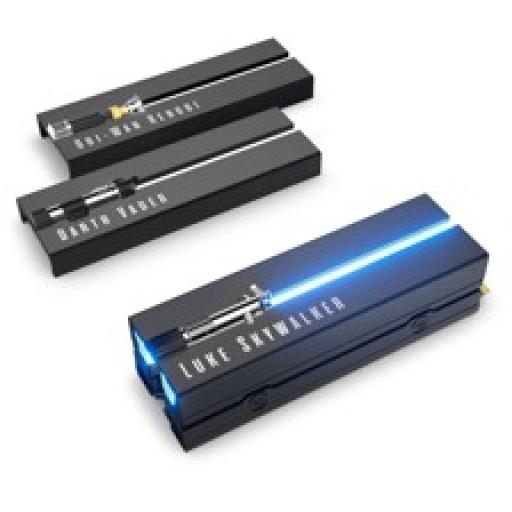lightsaber: (155, 217, 461, 356)
